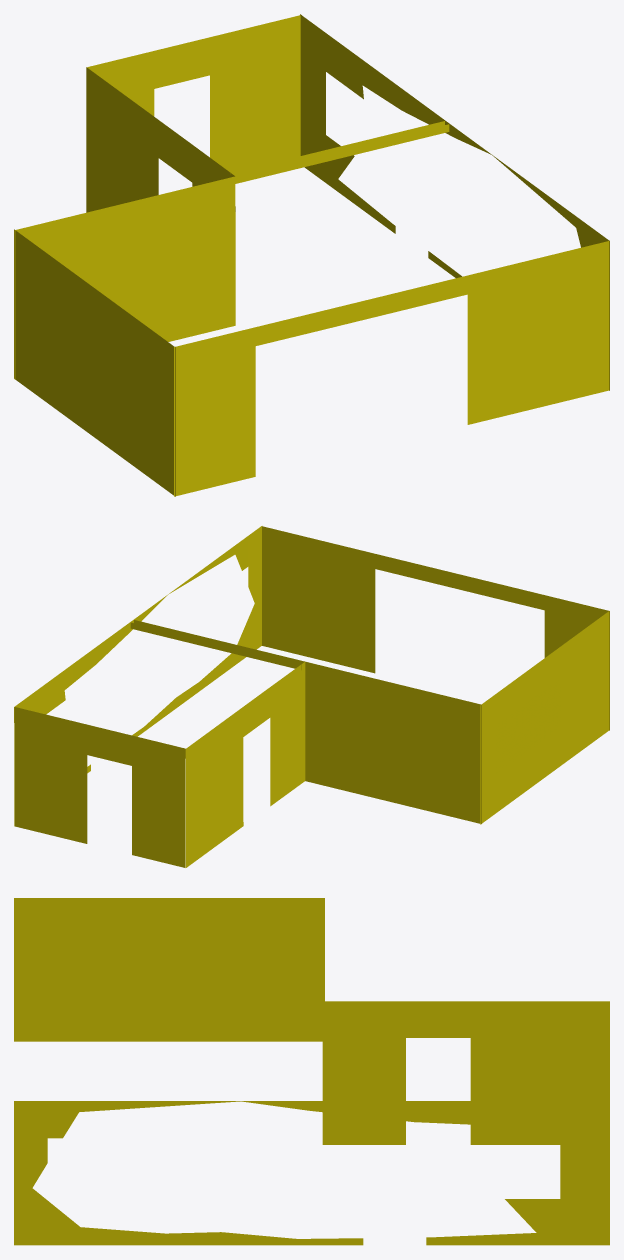
The model's file is BH05_WP_01_Break.fbx.
3 renders of one model, top to bottom at view 1: azimuth 30°, elevation 25°; view 2: azimuth 150°, elevation 25°; view 3: azimuth 270°, elevation 25°, orthographic. The views are drawn at different scales.
Parts seen in each view (by area): view 1: BH05_WP_01_Break; view 2: BH05_WP_01_Break; view 3: BH05_WP_01_Break.
Part boxes in pixels (x1,y1,x2,y2): BH05_WP_01_Break: [14, 14, 609, 496]; BH05_WP_01_Break: [14, 526, 609, 867]; BH05_WP_01_Break: [14, 898, 609, 1245].
Size of the model in its own units: 898 by 295 by 1104.
